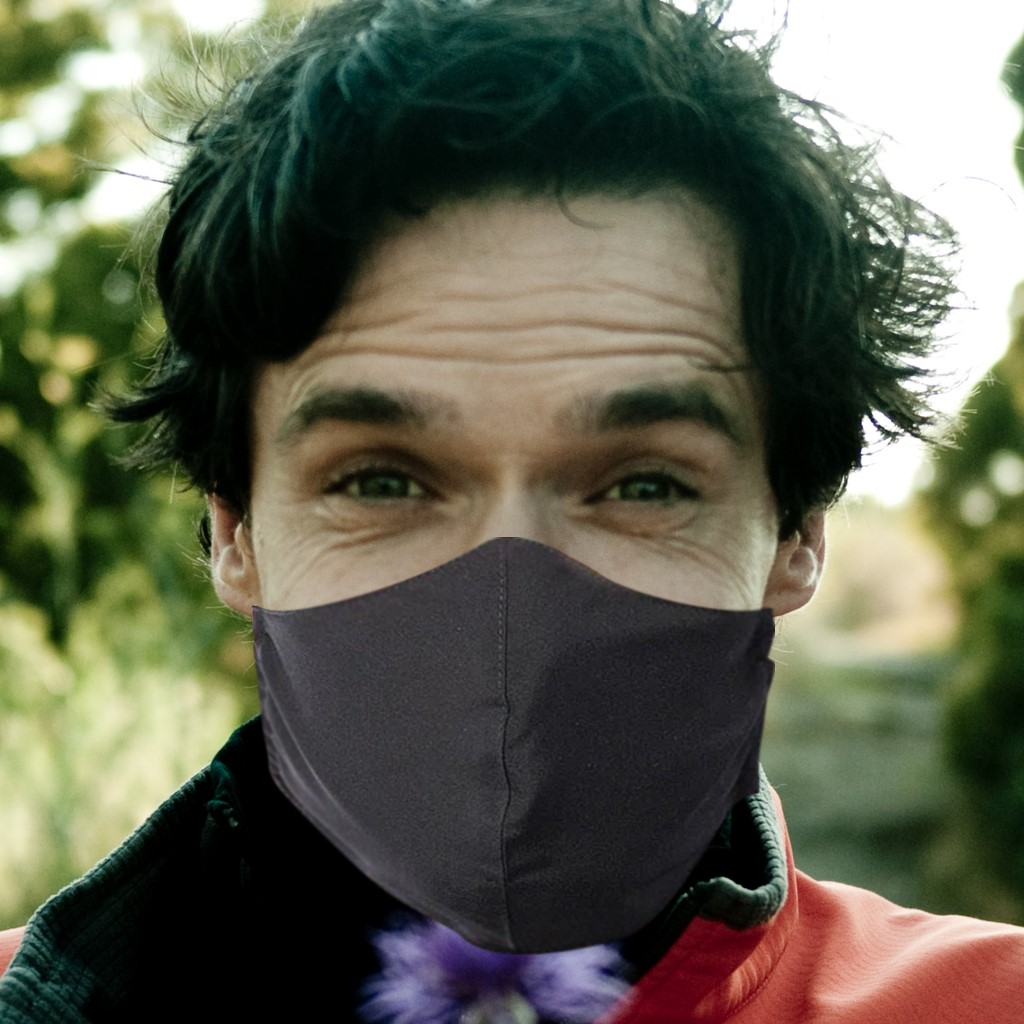con_mascara: (212, 97, 814, 926)
